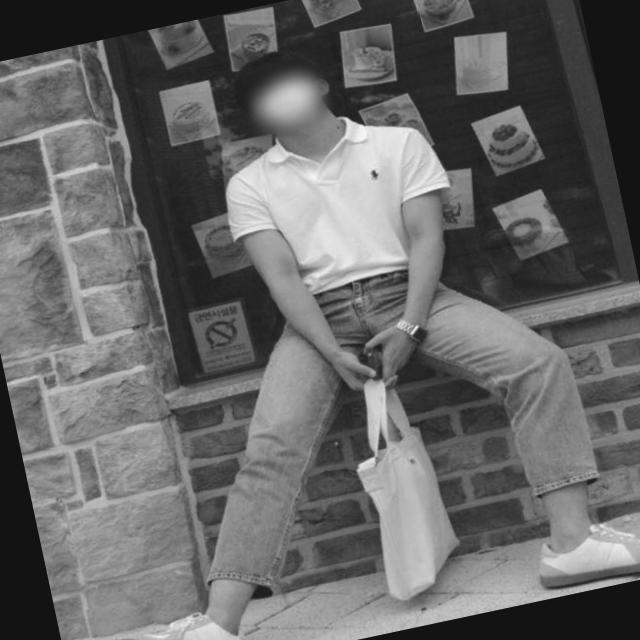denimpants: (147, 232, 614, 610)
shortsleeve: (208, 91, 467, 306)
